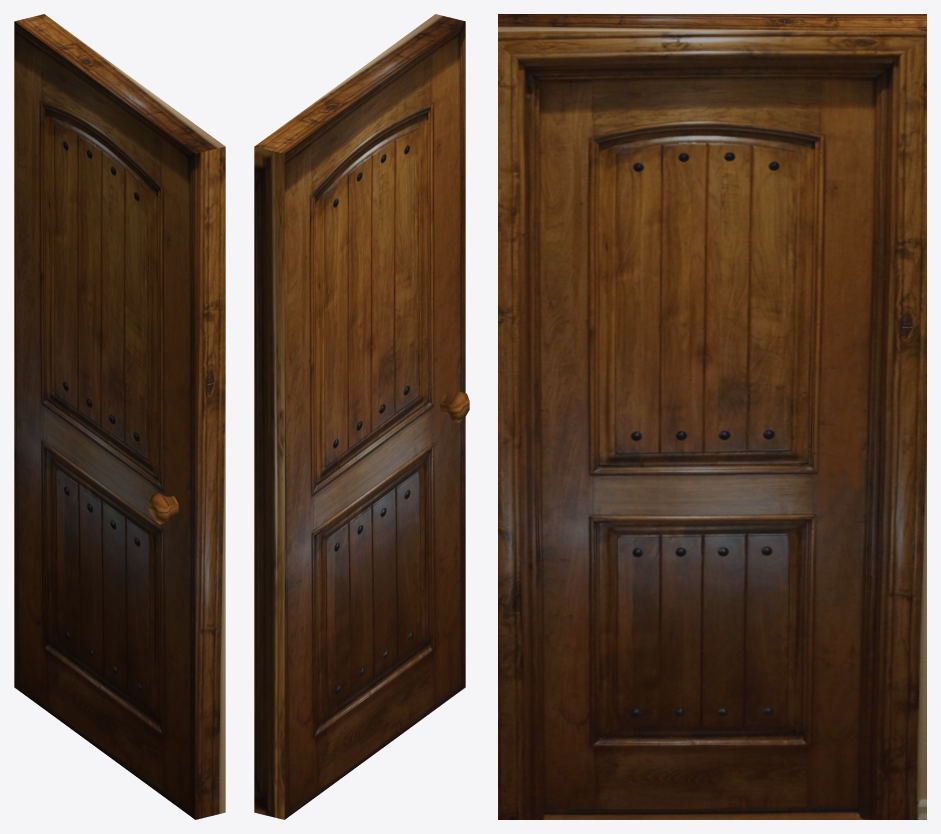
File: Deur.fbx
3 views of the same model, side by side, from view 1: azimuth 30°, elevation 25°; view 2: azimuth 150°, elevation 25°; view 3: azimuth 270°, elevation 25° (orthographic). The views are drawn at different scales.
Visible parts, largest first — view 1: deur, knop; view 2: deur, knop; view 3: deur.
Part boxes in pixels (x1,y1,x2,y2): deur: (14, 14, 225, 819); knop: (149, 493, 178, 524); deur: (254, 14, 465, 819); knop: (440, 391, 469, 422); deur: (498, 14, 926, 819).
Size of the model in its own units: 1.68 by 21.12 by 10.41.
Materials: 1 (1 with a texture image).
